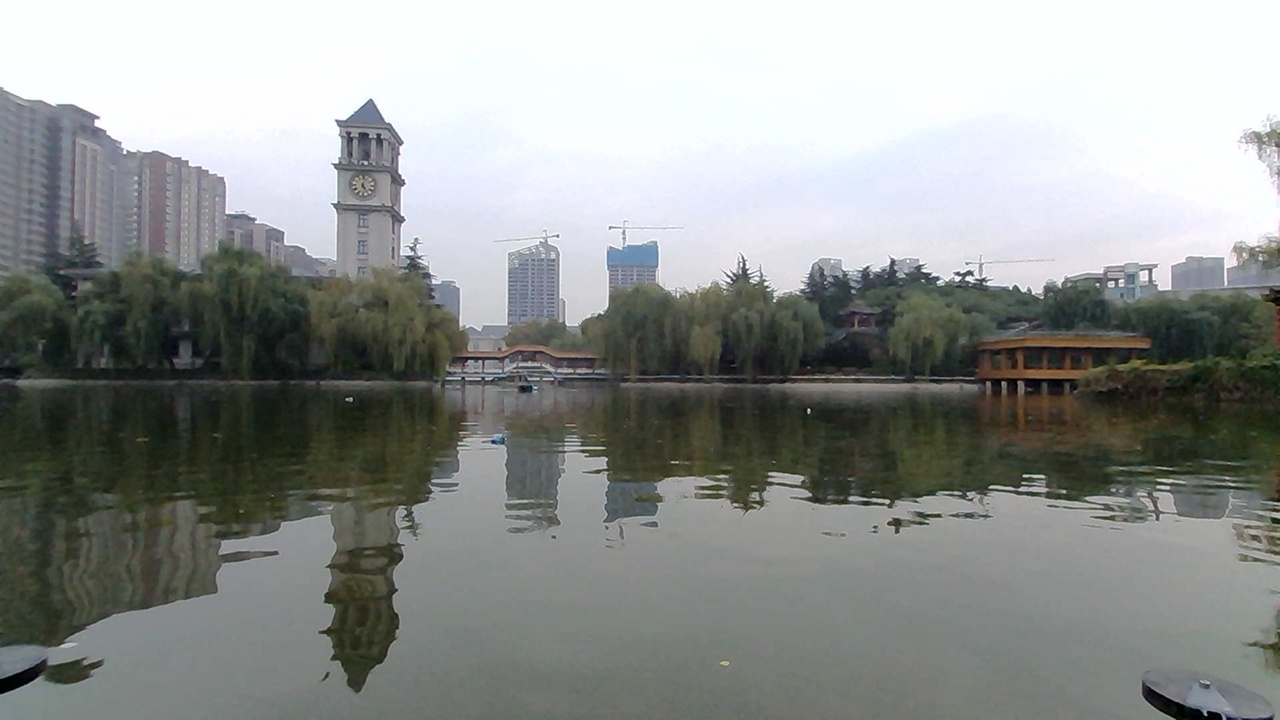bottle: (485, 422, 526, 451), (792, 400, 823, 421), (338, 389, 364, 408)
